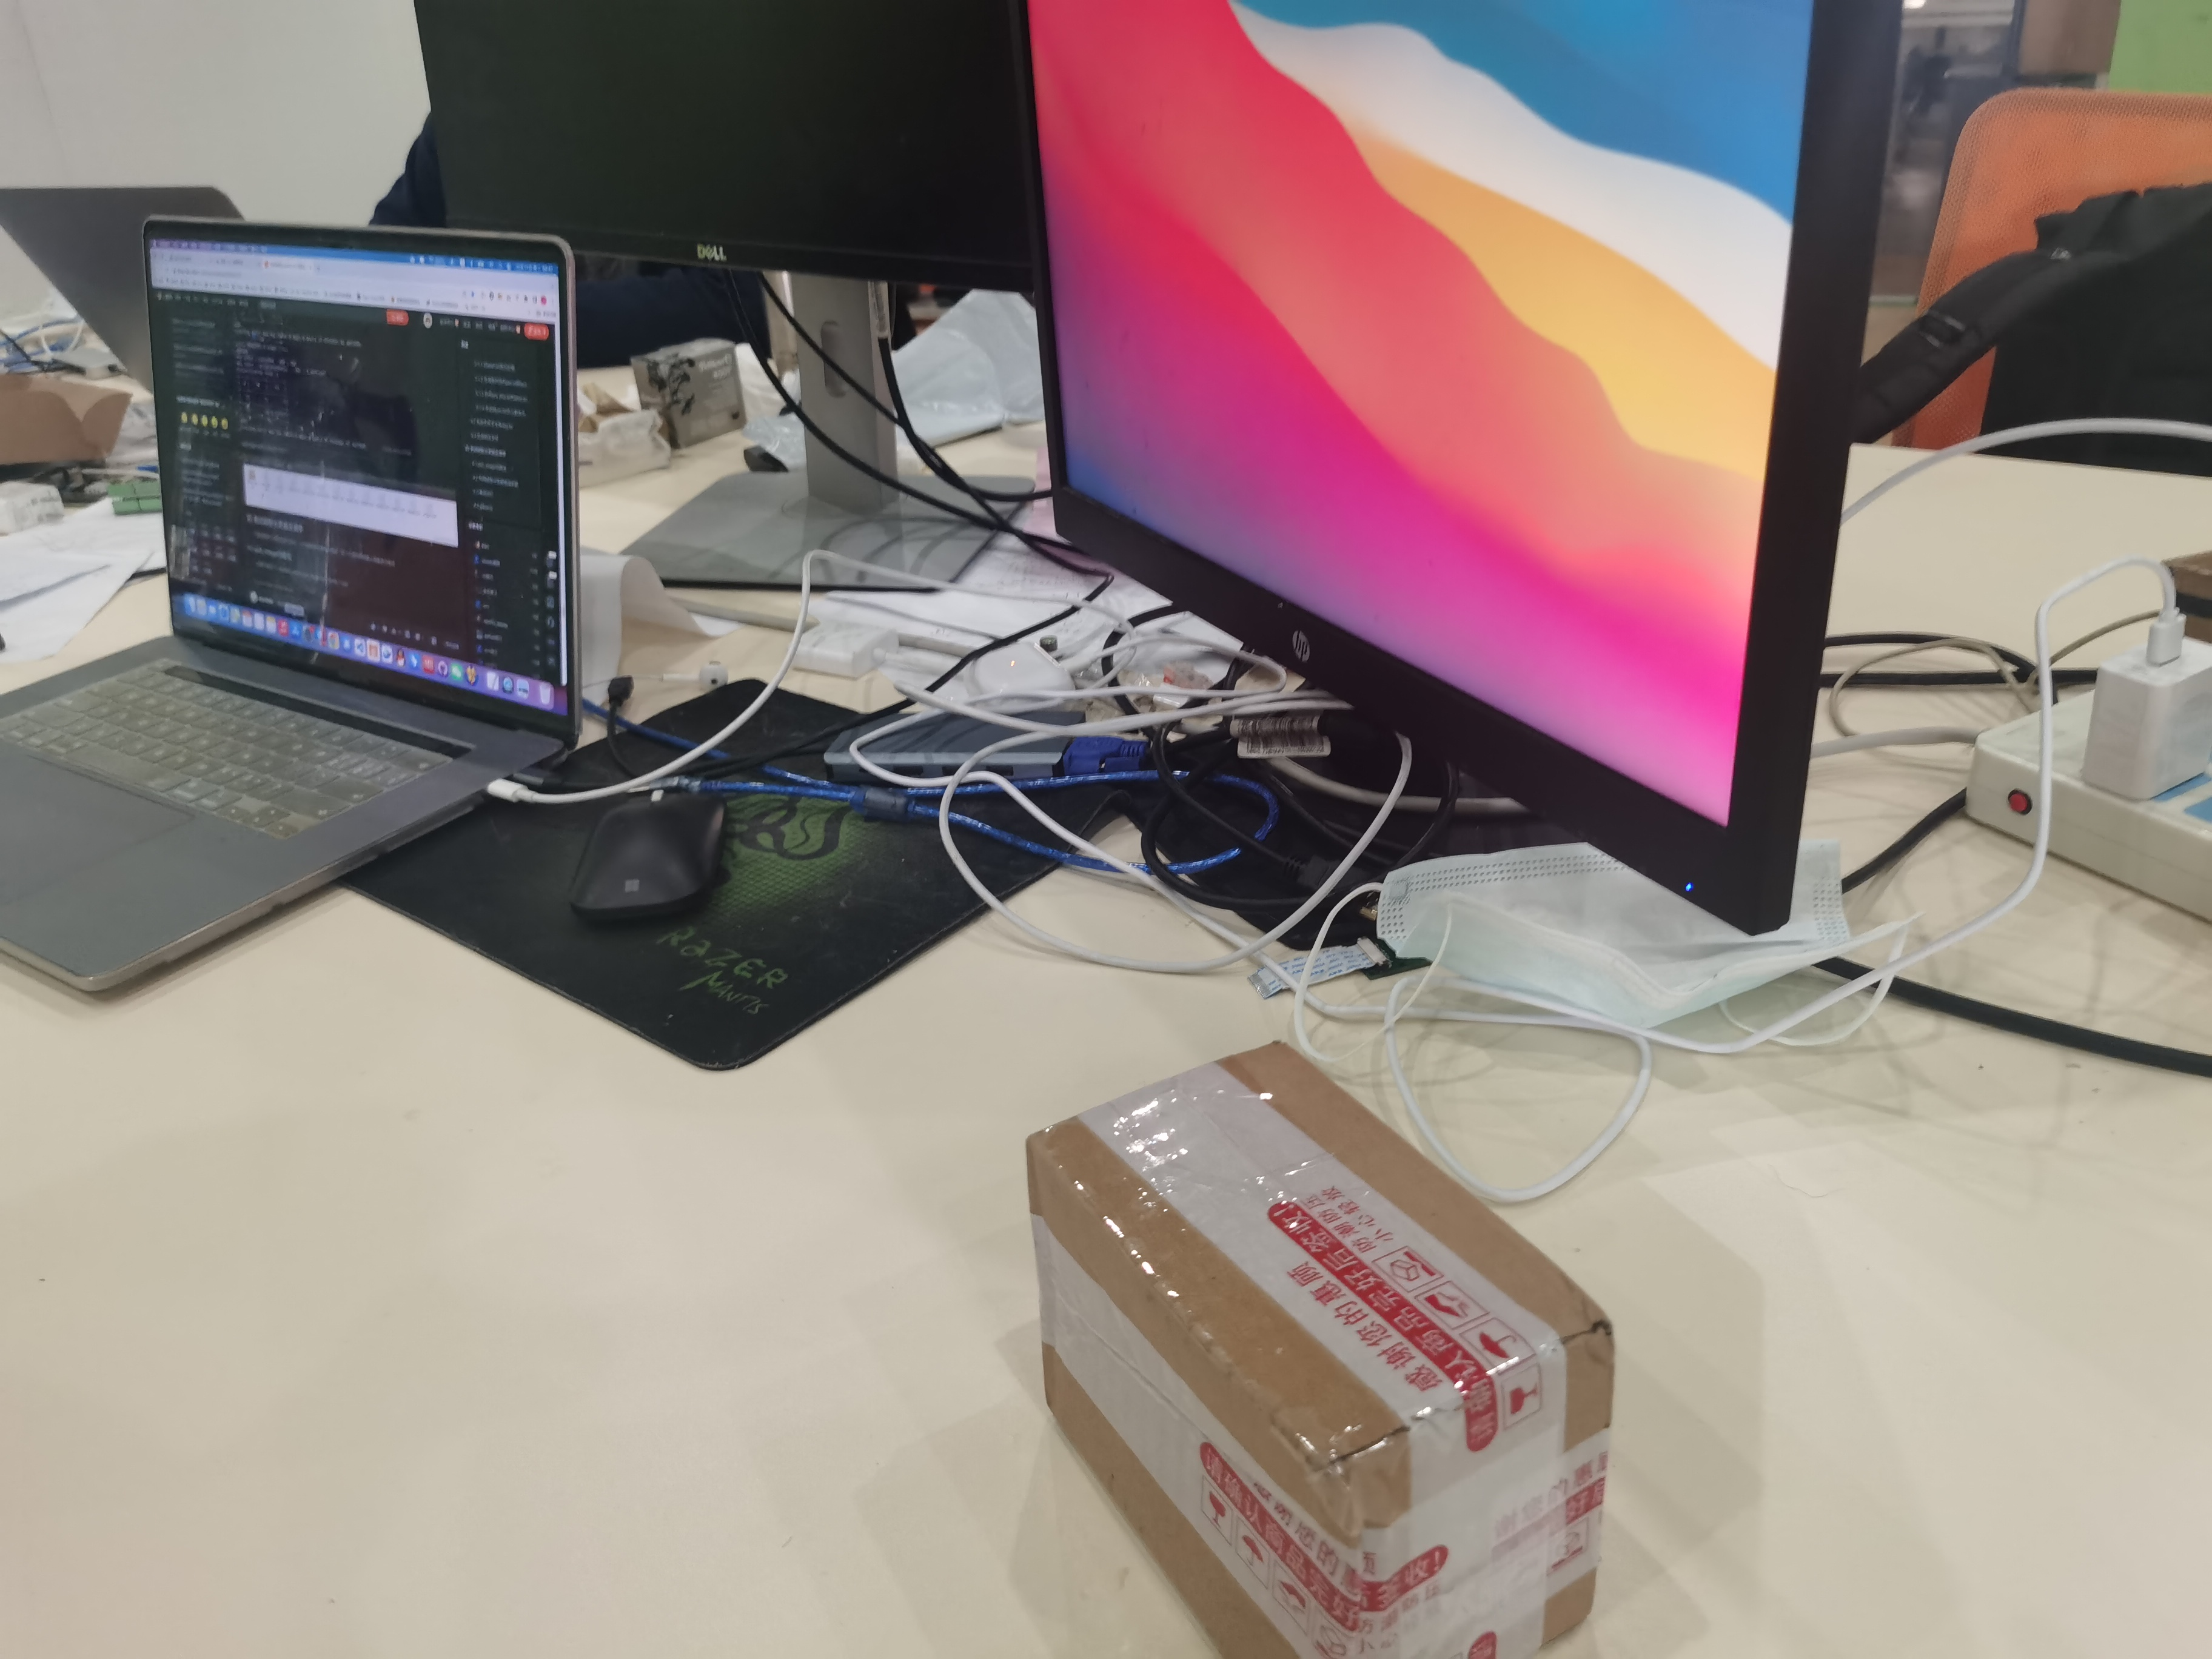box: (1017, 1040, 1622, 1659)
